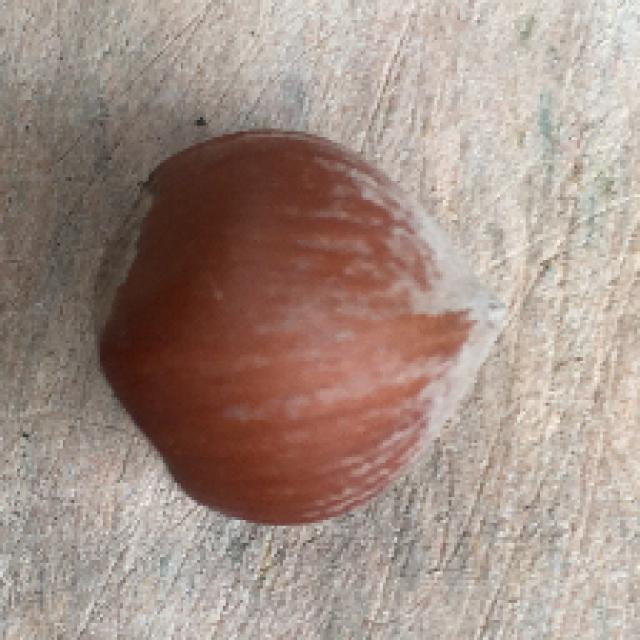qualityHazelnut: (81, 123, 495, 545)
